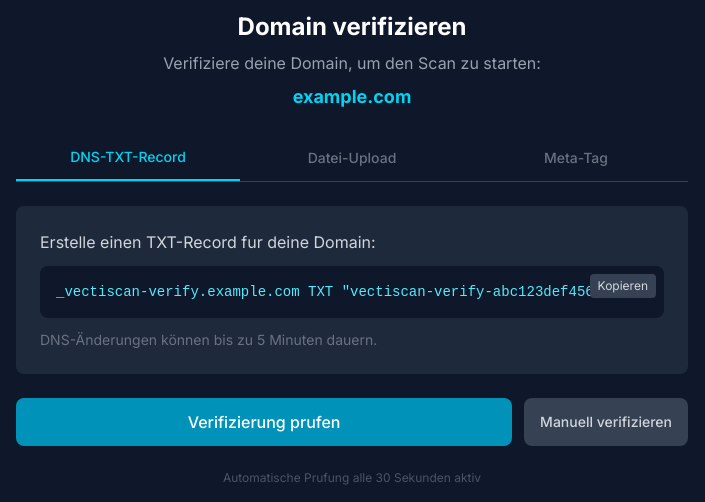
VerifyPage › should show verified banner on success
The width and height of the screenshot is (705, 502).
Click the button with test id "check-button" at (264, 422), box [16,398,512,446]
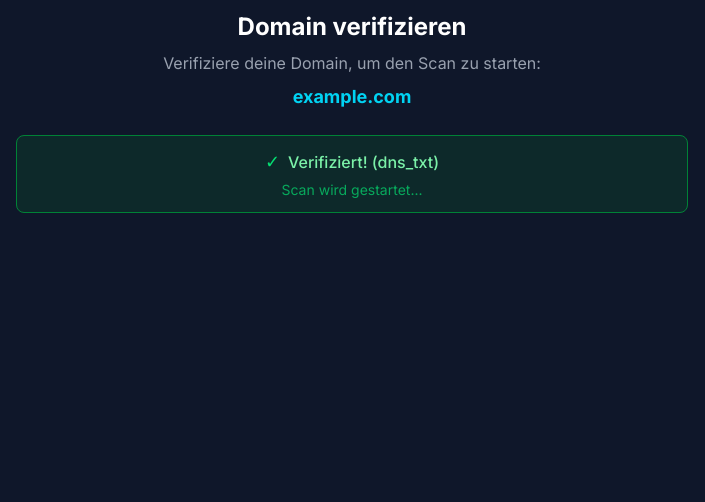
Now the element with test id "verified-banner" is shown, box [16,135,688,213]
Now the text "Verifiziert! (dns_txt)" is shown, box [288,152,439,172]
